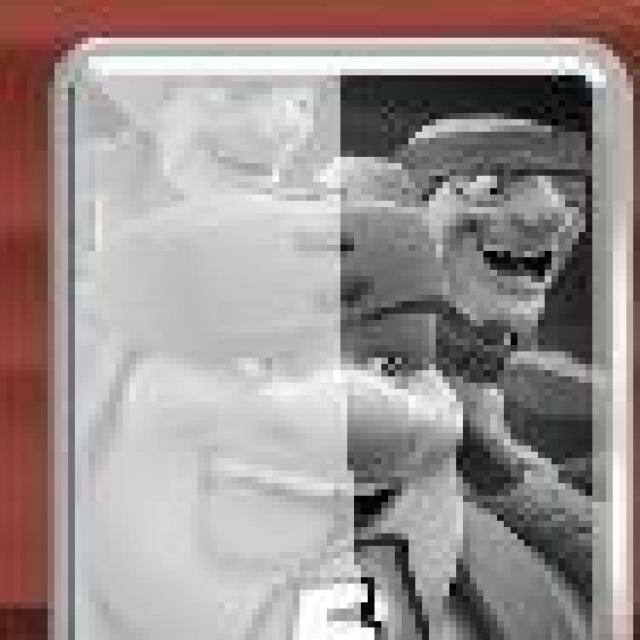Goblin_Giant: (47, 37, 636, 640)
